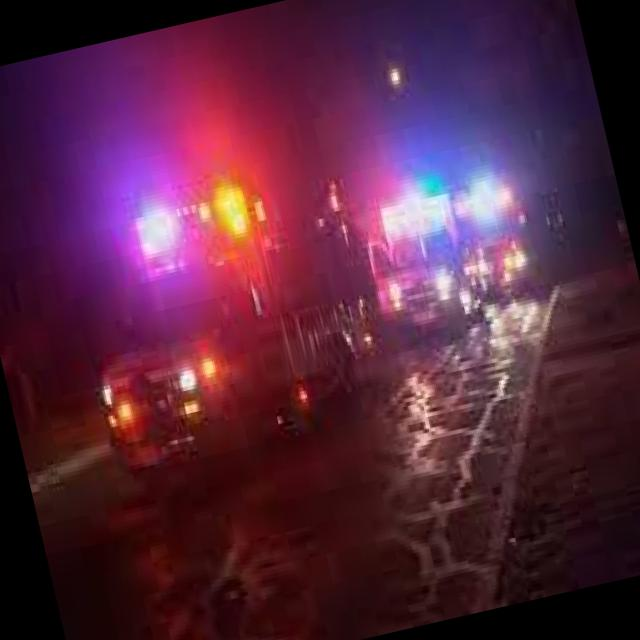ambulance: (41, 138, 400, 510), (344, 136, 491, 388), (455, 150, 563, 352)
